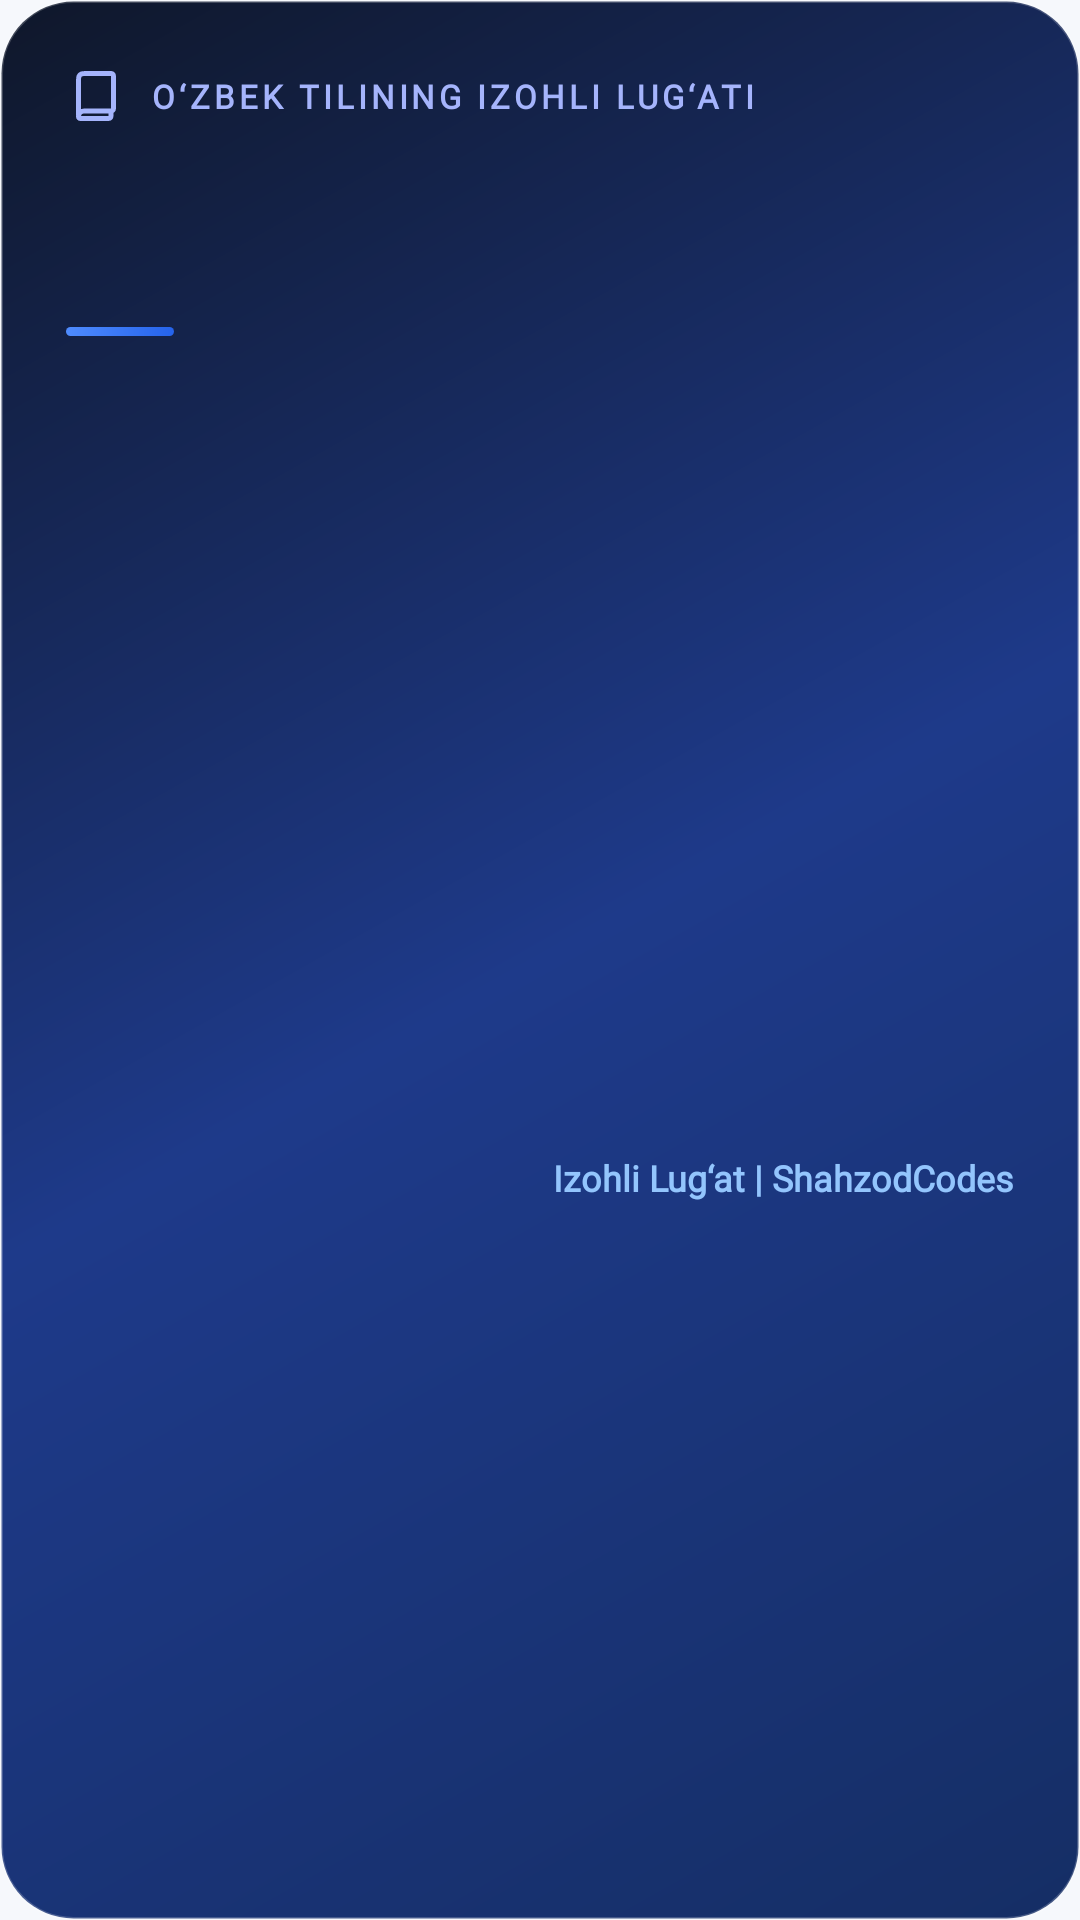

Icons on this 1080×1920 Android screen, each with the point to tap as (x,y):
book: (96,96)
